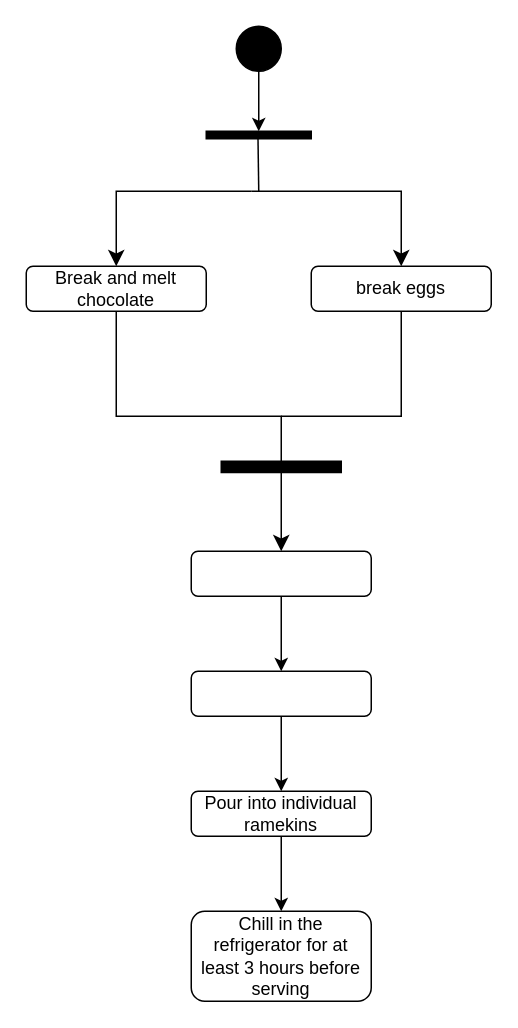
This 518x1028 diagram has some shape labels left out. Each missing label, with the centre of its shape:
"fold them into chocolate mixture" goes at (x=280, y=693).
"whisk egg whitess" goes at (x=280, y=573).
